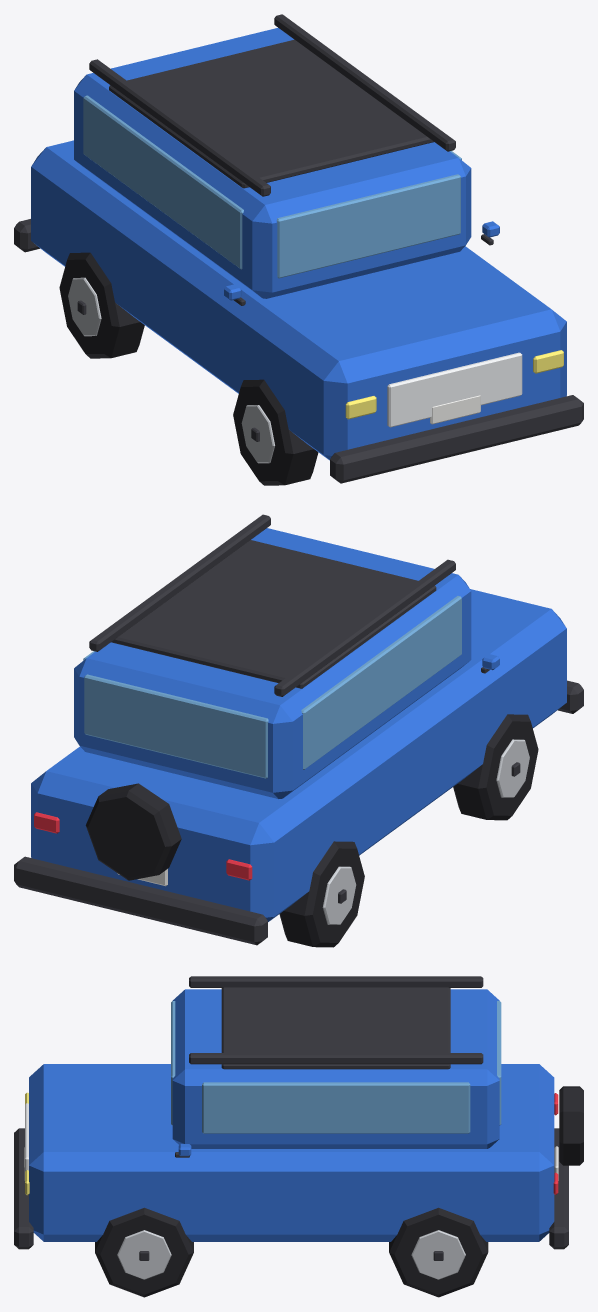
File: BlueSUV.fbx
3 renders of one model, top to bottom at view 1: azimuth 30°, elevation 25°; view 2: azimuth 150°, elevation 25°; view 3: azimuth 270°, elevation 25°, orthographic. The views are drawn at different scales.
Parts seen in each view (by area): view 1: BlueSUV, BlueSUV_WheelBR, BlueSUV_WheelFR; view 2: BlueSUV, BlueSUV_WheelBR, BlueSUV_WheelFR; view 3: BlueSUV, BlueSUV_WheelBL, BlueSUV_WheelFL.
Part boxes in pixels (<box>): BlueSUV: <box>14,14,583,483</box>; BlueSUV_WheelBR: <box>59,252,144,358</box>; BlueSUV_WheelFR: <box>233,379,318,485</box>; BlueSUV: <box>14,514,583,945</box>; BlueSUV_WheelBR: <box>279,841,364,947</box>; BlueSUV_WheelFR: <box>453,714,538,820</box>; BlueSUV: <box>14,976,583,1249</box>; BlueSUV_WheelBL: <box>389,1207,488,1297</box>; BlueSUV_WheelFL: <box>95,1207,193,1297</box>.
Size of the model in its own units: 5.35 by 5.15 by 11.5.
Materials: 1 (1 with a texture image).
